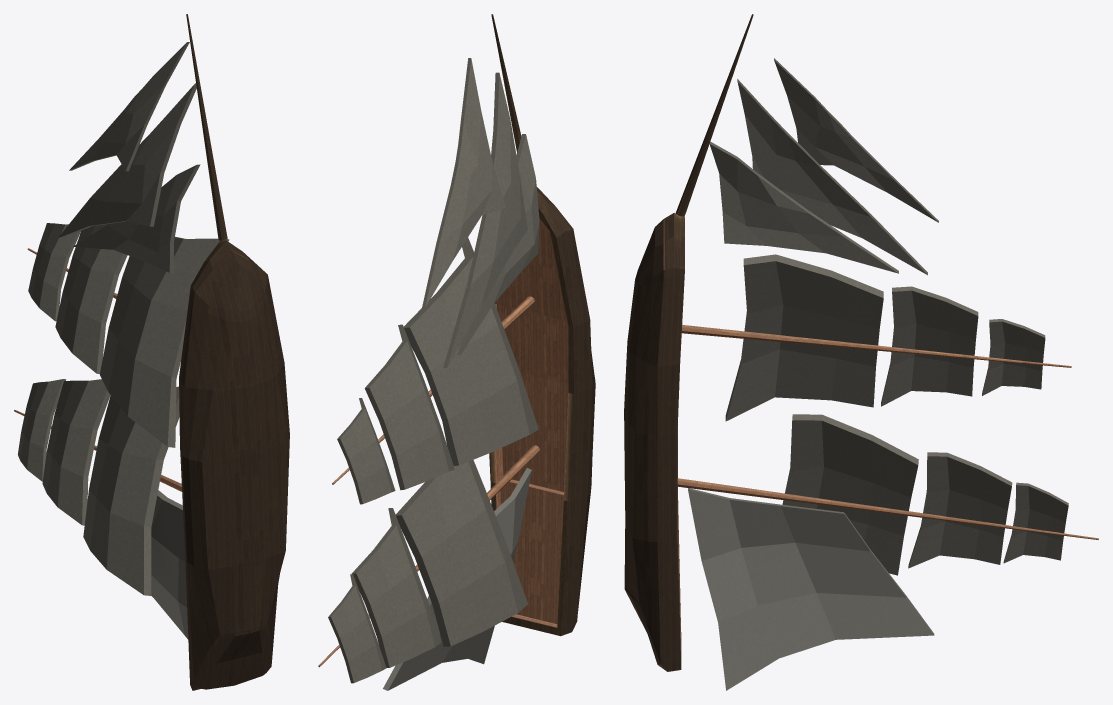
File: brig_enemy.fbx
3 views of the same model, side by side, from view 1: azimuth 30°, elevation 25°; view 2: azimuth 150°, elevation 25°; view 3: azimuth 270°, elevation 25° (orthographic).
Parts seen in each view (by area): view 1: Cube; view 2: Cube; view 3: Cube.
Part boxes in pixels (x1=…): Cube: x1=14, y1=14, x2=289, y2=690; Cube: x1=318, y1=14, x2=595, y2=690; Cube: x1=624, y1=14, x2=1098, y2=690.
Bounding box in the file's own units: 143 × 858 × 555.
1 material, 1 textured.
